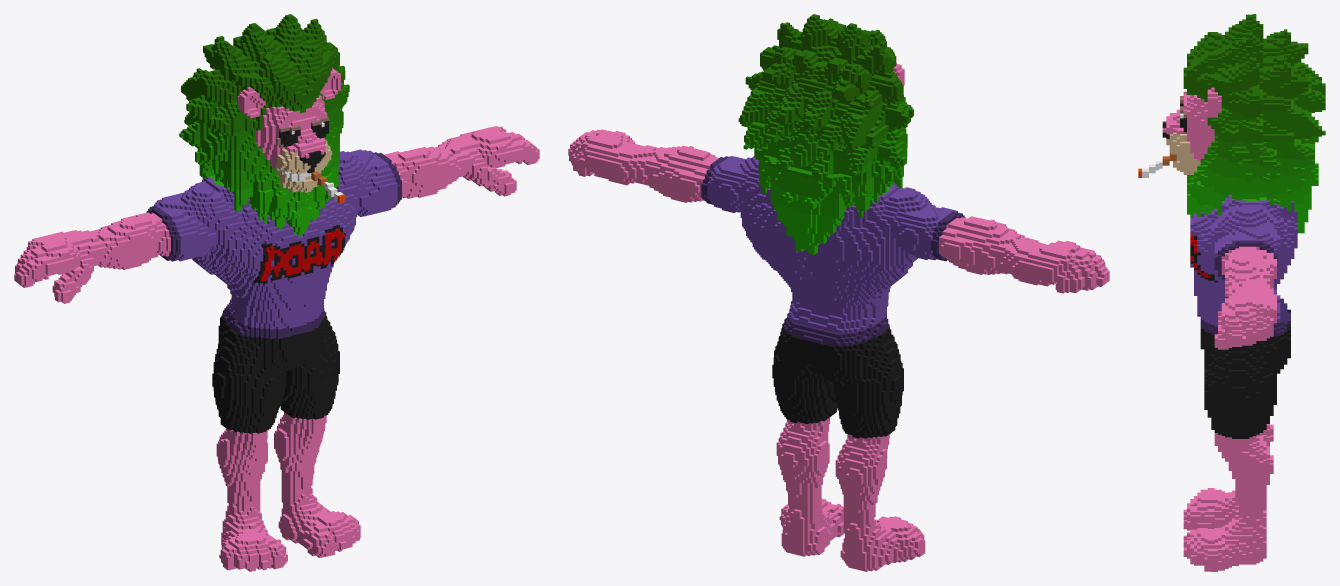
Rendered from 898-Upr3fPxo.glb.
The picture shows the model from 3 angles, left to right: view 1: azimuth 30°, elevation 25°; view 2: azimuth 150°, elevation 25°; view 3: azimuth 270°, elevation 25°; orthographic projection. The views are drawn at different scales.
Visible parts, largest first — view 1: cigarette; view 2: cigarette; view 3: cigarette.
Boxes of the visible parts, bbox=[...] form: cigarette: bbox=[14, 14, 539, 571]; cigarette: bbox=[568, 14, 1109, 571]; cigarette: bbox=[1138, 14, 1325, 571].
Size of the model in its own units: 17.2 by 16.5 by 5.4.
Materials: 5 (5 with a texture image).
